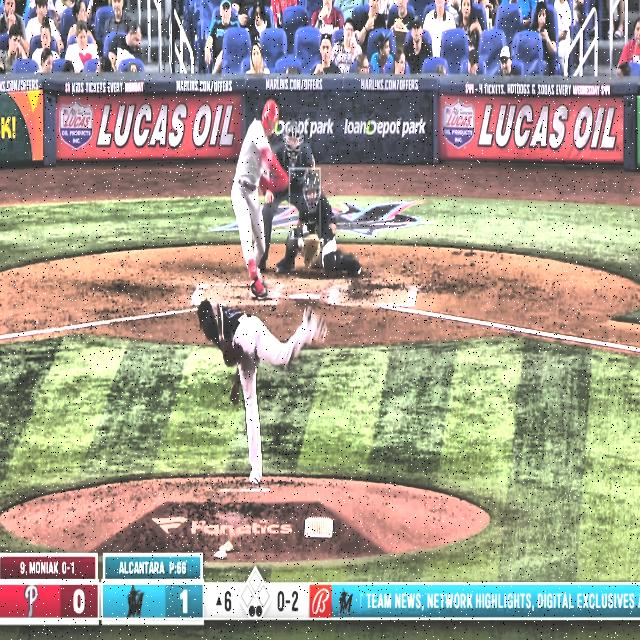baseball: (297, 237, 305, 250)
